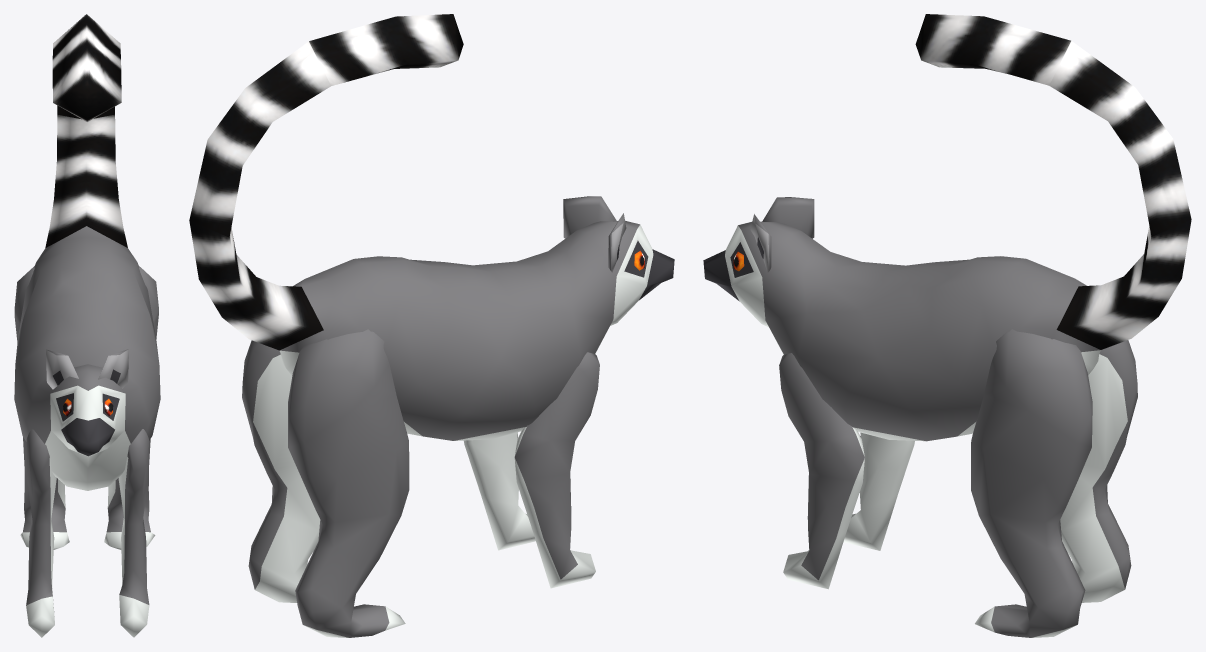
The picture shows the model from 3 angles, left to right: view 1: azimuth 30°, elevation 25°; view 2: azimuth 150°, elevation 25°; view 3: azimuth 270°, elevation 25°; orthographic projection. The views are drawn at different scales.
Parts seen in each view (by area): view 1: Lemur; view 2: Lemur; view 3: Lemur.
Part boxes in pixels (bbox=[...]): Lemur: bbox=[14, 14, 160, 637]; Lemur: bbox=[189, 14, 674, 637]; Lemur: bbox=[703, 14, 1191, 637].
Size of what is drawn, in the model's own units: 0.4453 by 0.9599 by 0.7254.
1 material, 1 textured.
